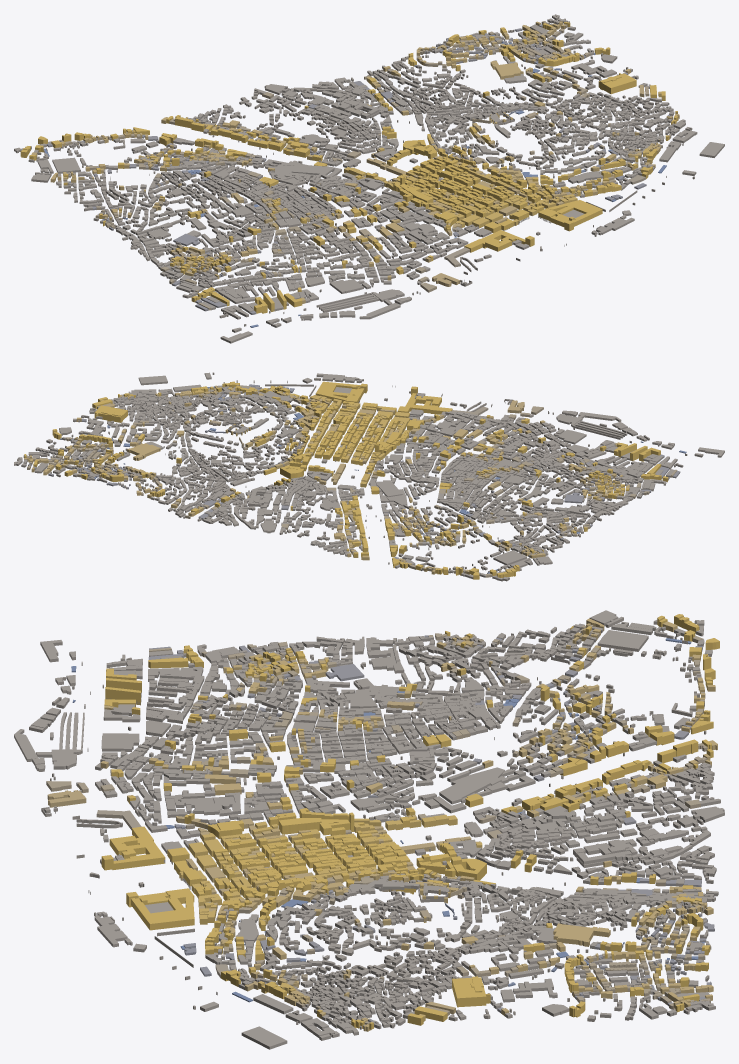
Rendered from buildings.glb.
3 views of the same model, one above another, from view 1: azimuth 30°, elevation 25°; view 2: azimuth 150°, elevation 25°; view 3: azimuth 270°, elevation 25° (orthographic). The views are drawn at different scales.
Parts seen in each view (by area): view 1: buildings; view 2: buildings; view 3: buildings.
Boxes of the visible parts, bbox=[...] form: buildings: bbox=[14, 14, 724, 343]; buildings: bbox=[14, 372, 724, 581]; buildings: bbox=[14, 610, 724, 1049].
Size of the model in its own units: 2335 by 123 by 1724.
